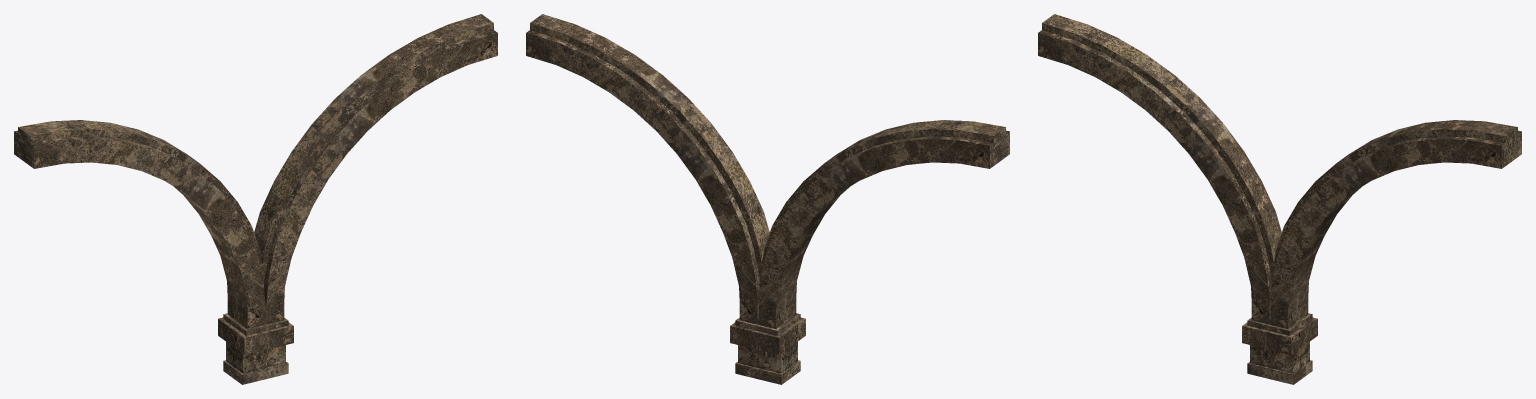
The model's file is materials_5_arch_18.fbx.
The picture shows the model from 3 angles, left to right: view 1: azimuth 30°, elevation 25°; view 2: azimuth 150°, elevation 25°; view 3: azimuth 330°, elevation 25°; orthographic projection.
Parts seen in each view (by area): view 1: materials_5_arch_18; view 2: materials_5_arch_18; view 3: materials_5_arch_18.
Part boxes in pixels (bbox=[...]): materials_5_arch_18: bbox=[14, 14, 497, 384]; materials_5_arch_18: bbox=[526, 14, 1009, 384]; materials_5_arch_18: bbox=[1038, 14, 1521, 384].
Bounding box in the file's own units: 165 × 101 × 16.38.
